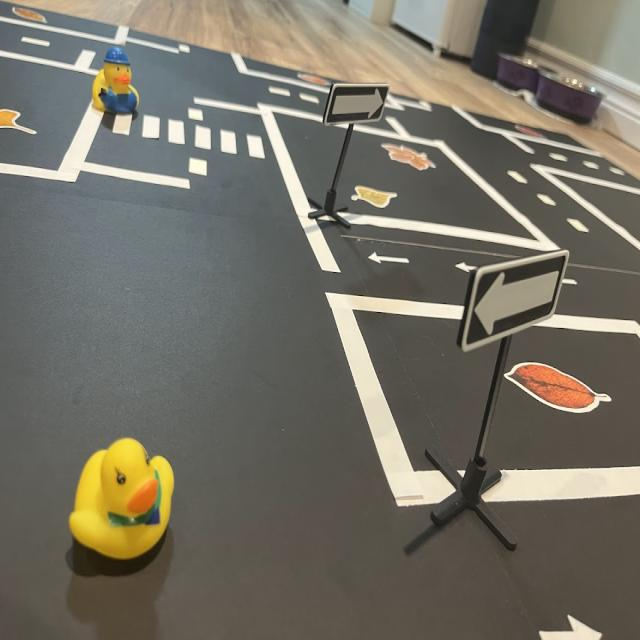duck_regular: (70, 440, 175, 560)
duck_specialty: (90, 46, 140, 115)
road_crosswalk: (109, 111, 269, 166)
road_oneway: (537, 608, 608, 640), (367, 249, 414, 272), (456, 260, 475, 276)
sign_oneway_left: (462, 252, 571, 356)
sign_oneway_right: (323, 85, 391, 127)
